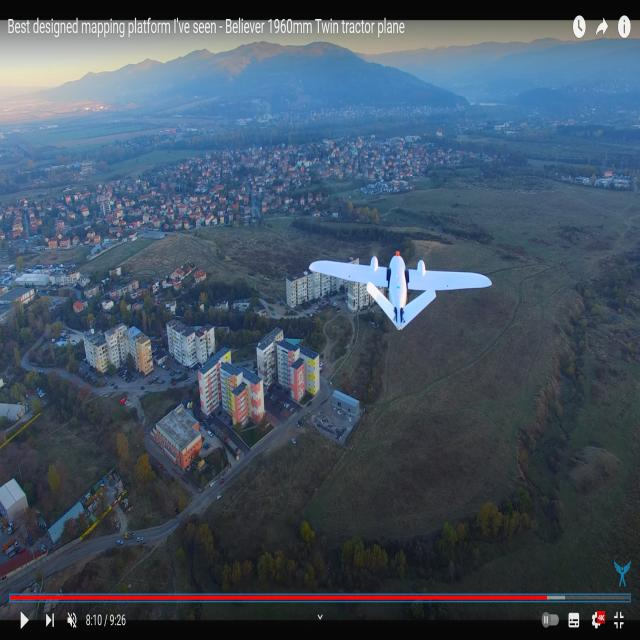iha: (312, 286, 493, 298)
